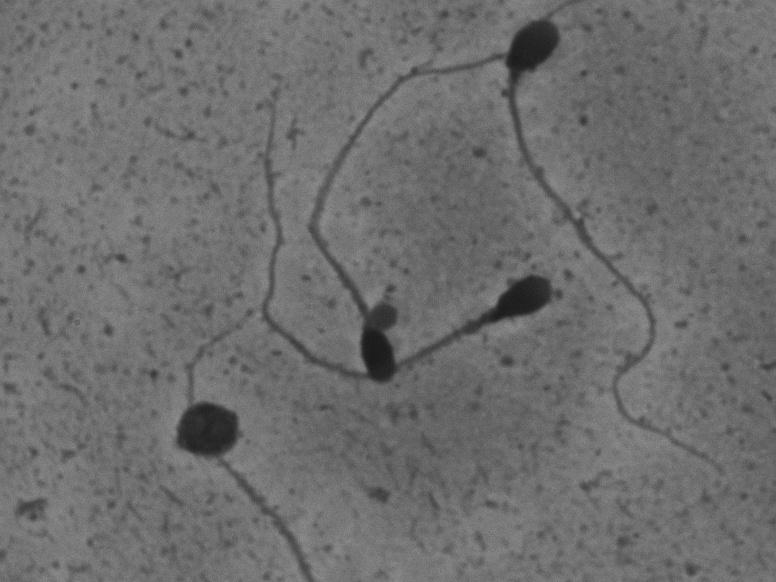Abnormal: (500, 11, 730, 483), (237, 67, 558, 398)
